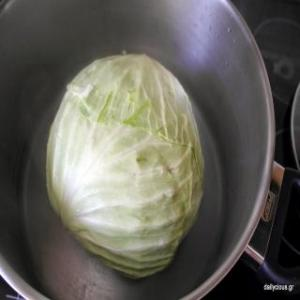cabbage: (44, 49, 204, 281)
